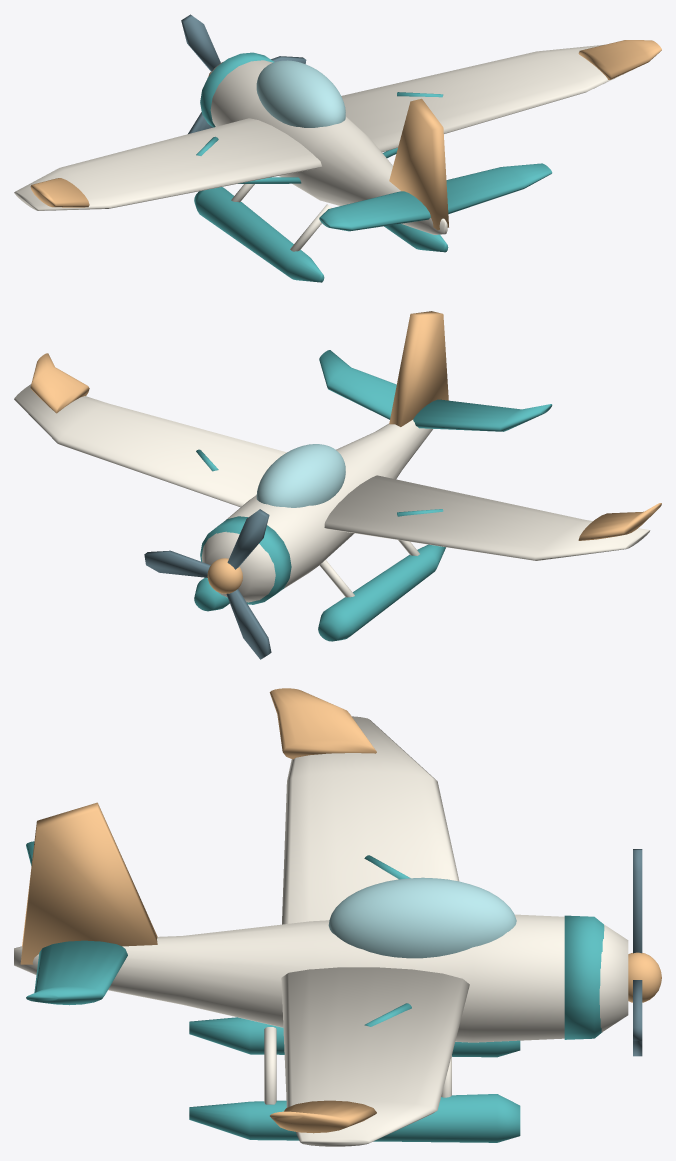
Rendered from rescue_aircraft.glb.
3 renders of one model, top to bottom at view 1: azimuth 30°, elevation 25°; view 2: azimuth 150°, elevation 25°; view 3: azimuth 270°, elevation 25°, orthographic. The views are drawn at different scales.
Parts seen in each view (by area): view 1: wing_port, wing_starboard, fuselage_cream, vertical_tail_fin, panoramic_canopy, water_float_-1, tailplane_1, tailplane_-1, orange_tip_1, orange_tip_-1, engine_cowl_teal, prop_blade_2.09 (+2 smaller); view 2: wing_port, wing_starboard, fuselage_cream, vertical_tail_fin, water_float_-1, panoramic_canopy, tailplane_-1, tailplane_1, orange_tip_1, engine_cowl_teal, orange_tip_-1, prop_blade_4.19 (+4 smaller); view 3: fuselage_cream, wing_starboard, wing_port, vertical_tail_fin, panoramic_canopy, water_float_1, tailplane_1, orange_tip_-1, engine_cowl_teal, water_float_-1, orange_tip_1, prop_spinner (+2 smaller).
Part boxes in pixels (x1=…): wing_port: x1=14, y1=118, x2=321, y2=210; wing_starboard: x1=341, y1=44, x2=629, y2=152; fuselage_cream: x1=209, y1=60, x2=447, y2=234; vertical_tail_fin: x1=389, y1=98, x2=448, y2=230; panoramic_canopy: x1=256, y1=60, x2=345, y2=127; water_float_-1: x1=194, y1=187, x2=324, y2=282; tailplane_1: x1=446, y1=163, x2=552, y2=214; tailplane_-1: x1=319, y1=191, x2=430, y2=231; orange_tip_1: x1=578, y1=40, x2=661, y2=79; orange_tip_-1: x1=30, y1=178, x2=89, y2=207; engine_cowl_teal: x1=200, y1=52, x2=274, y2=127; prop_blade_2.09: x1=181, y1=14, x2=220, y2=71; wing_port: x1=324, y1=475, x2=650, y2=560; wing_starboard: x1=14, y1=384, x2=286, y2=507; fuselage_cream: x1=201, y1=420, x2=432, y2=602; vertical_tail_fin: x1=389, y1=311, x2=448, y2=426; water_float_-1: x1=318, y1=544, x2=445, y2=641; panoramic_canopy: x1=256, y1=444, x2=345, y2=507; tailplane_-1: x1=413, y1=399, x2=552, y2=431; tailplane_1: x1=319, y1=350, x2=396, y2=419; orange_tip_1: x1=30, y1=353, x2=89, y2=413; engine_cowl_teal: x1=200, y1=516, x2=291, y2=604; orange_tip_-1: x1=578, y1=503, x2=661, y2=540; prop_blade_4.19: x1=226, y1=589, x2=271, y2=659; fuselage_cream: x1=14, y1=914, x2=628, y2=1042; wing_starboard: x1=281, y1=967, x2=469, y2=1146; wing_port: x1=282, y1=716, x2=459, y2=924; vertical_tail_fin: x1=20, y1=802, x2=157, y2=964; panoramic_canopy: x1=328, y1=877, x2=516, y2=958; water_float_1: x1=189, y1=1094, x2=520, y2=1142; tailplane_1: x1=26, y1=940, x2=127, y2=1005; orange_tip_-1: x1=269, y1=688, x2=376, y2=759; engine_cowl_teal: x1=564, y1=915, x2=604, y2=1039; water_float_-1: x1=189, y1=1017, x2=520, y2=1057; orange_tip_1: x1=270, y1=1100, x2=376, y2=1133; prop_spinner: x1=628, y1=952, x2=661, y2=1002.
Size of the model in its own units: 7.42 by 2.38 by 4.8.
